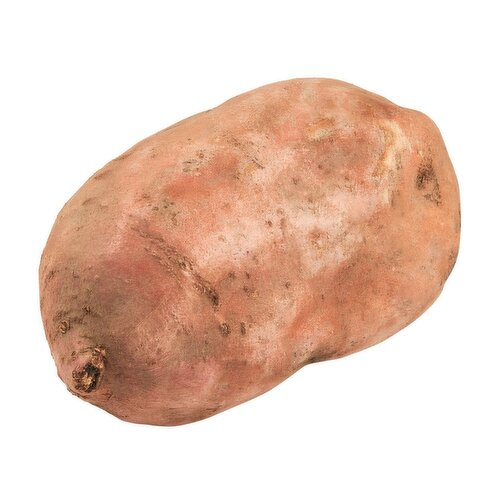potato: (34, 71, 444, 418)
